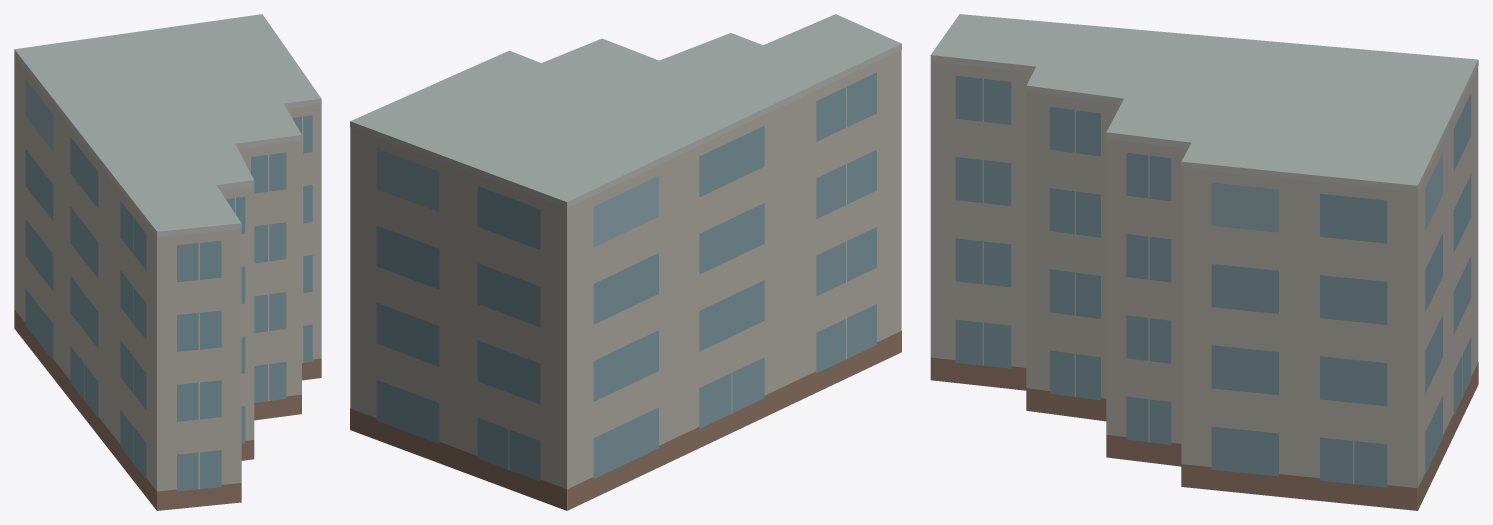
The model's file is survey-upis-32972122.glb.
3 views of the same model, side by side, from view 1: azimuth 30°, elevation 25°; view 2: azimuth 150°, elevation 25°; view 3: azimuth 270°, elevation 25° (orthographic). The views are drawn at different scales.
Parts seen in each view (by area): view 1: survey-upis-32972122.tmp; view 2: survey-upis-32972122.tmp; view 3: survey-upis-32972122.tmp.
Part boxes in pixels (x1,y1,x2,y2): survey-upis-32972122.tmp: (14,14,321,510); survey-upis-32972122.tmp: (350,14,901,510); survey-upis-32972122.tmp: (930,14,1478,510).
Bounding box in the file's own units: 13.83 × 12.2 × 18.64.
